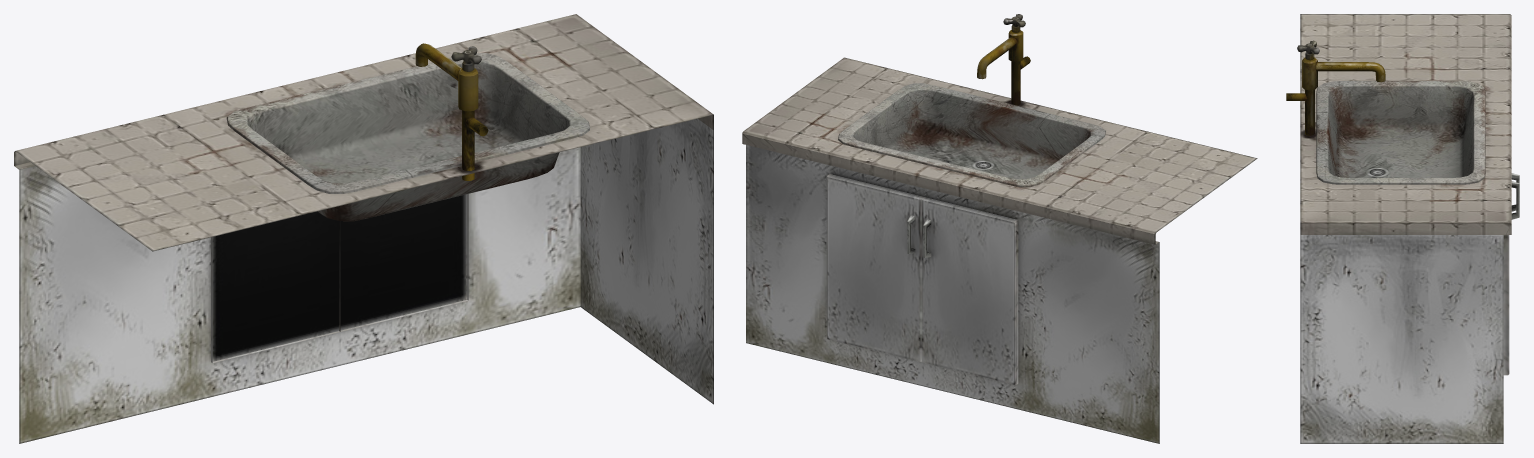
Rendered from sink1.fbx.
The picture shows the model from 3 angles, left to right: view 1: azimuth 30°, elevation 25°; view 2: azimuth 150°, elevation 25°; view 3: azimuth 270°, elevation 25°; orthographic projection. The views are drawn at different scales.
Visible parts, largest first — view 1: polySurface202; view 2: polySurface202; view 3: polySurface202.
Part boxes in pixels (bbox=[...]): polySurface202: bbox=[14, 14, 713, 443]; polySurface202: bbox=[742, 14, 1257, 443]; polySurface202: bbox=[1286, 14, 1519, 443].
Size of the model in its own units: 182 by 126 by 86.18.
